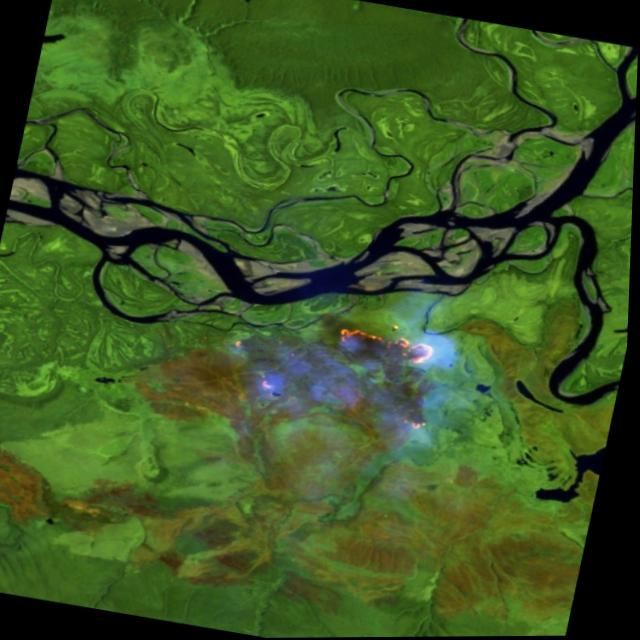fire: (310, 306, 471, 440)
